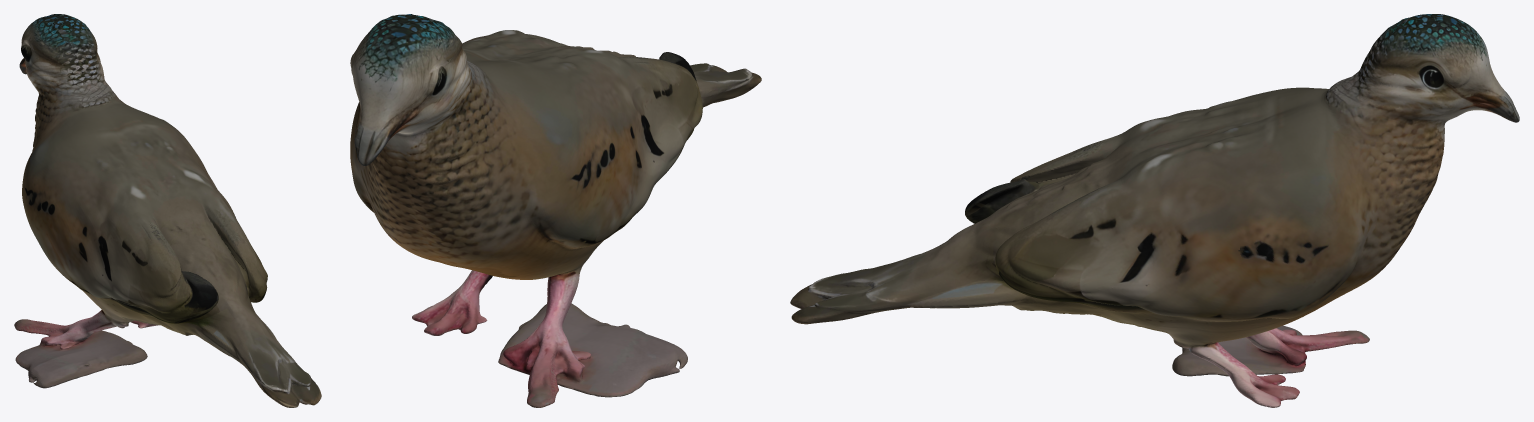
The model's file is Paloma Maraquita 3D.glb.
The picture shows the model from 3 angles, left to right: view 1: azimuth 30°, elevation 25°; view 2: azimuth 150°, elevation 25°; view 3: azimuth 270°, elevation 25°; orthographic projection. The views are drawn at different scales.
Parts seen in each view (by area): view 1: tripo_node_6cbc47fb-eaf3-4f3d-91f7-d951c384ec05; view 2: tripo_node_6cbc47fb-eaf3-4f3d-91f7-d951c384ec05; view 3: tripo_node_6cbc47fb-eaf3-4f3d-91f7-d951c384ec05.
Boxes of the visible parts, box(x1,y1,x2,y2) form: tripo_node_6cbc47fb-eaf3-4f3d-91f7-d951c384ec05: box(14, 14, 321, 407); tripo_node_6cbc47fb-eaf3-4f3d-91f7-d951c384ec05: box(350, 14, 761, 407); tripo_node_6cbc47fb-eaf3-4f3d-91f7-d951c384ec05: box(790, 14, 1519, 407).
Size of the model in its own units: 0.4042 by 0.5639 by 1.
Materials: 1 (1 with a texture image).
